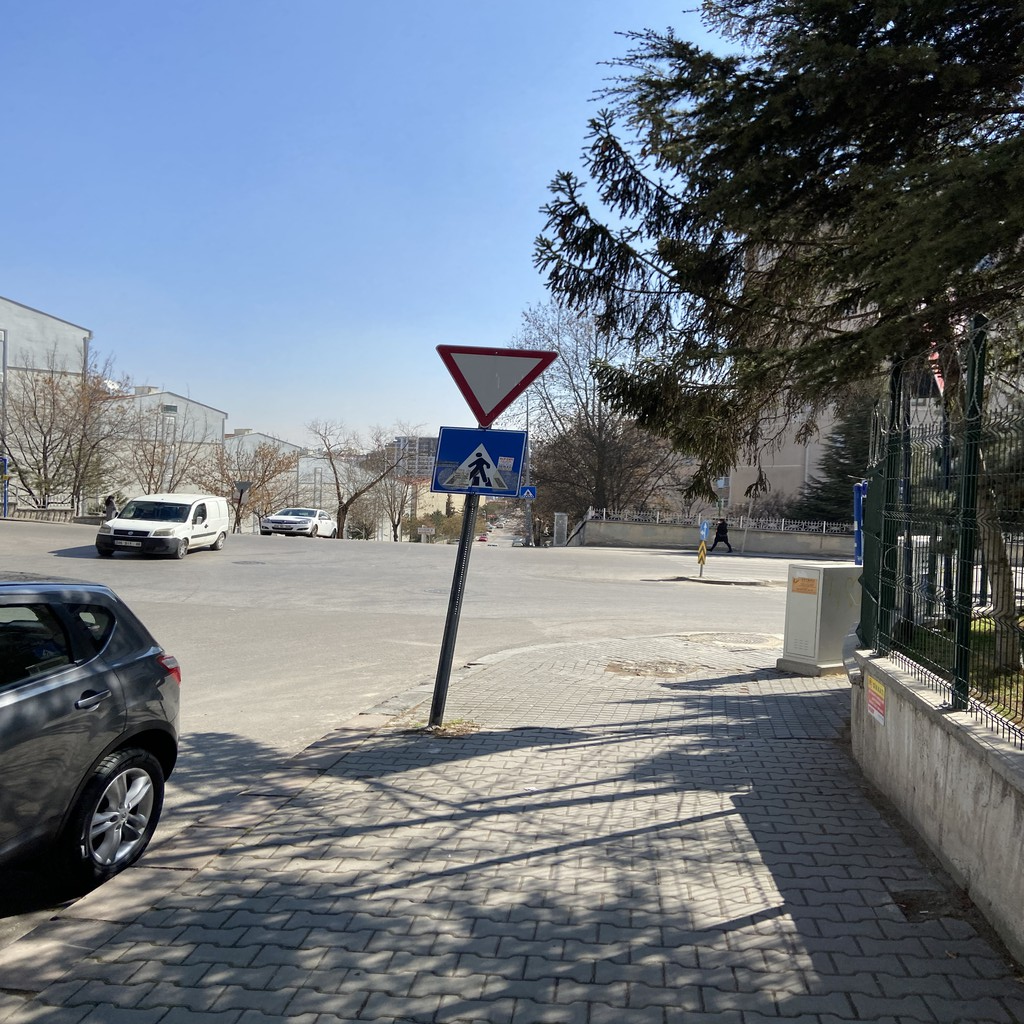Yaya Gecidi: (445, 423, 528, 501)
Yol Ver: (438, 342, 568, 421)
